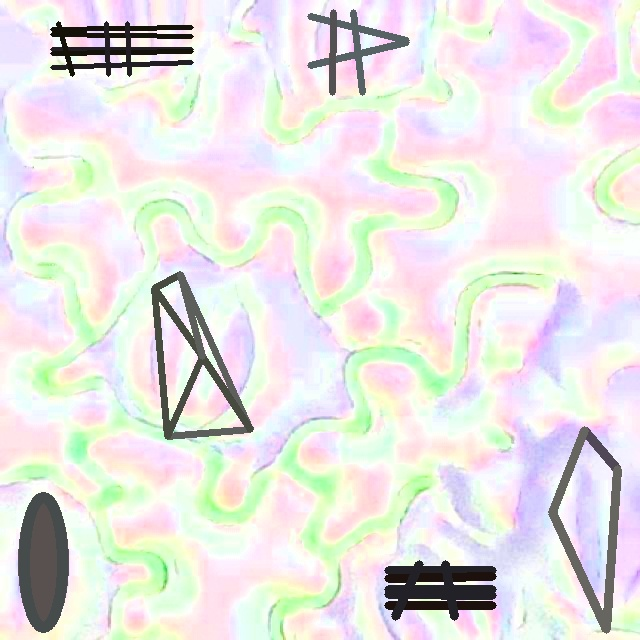open: (151, 272, 252, 439), (548, 426, 621, 633), (308, 9, 409, 95), (50, 21, 193, 76), (18, 492, 68, 632), (385, 560, 495, 620)
